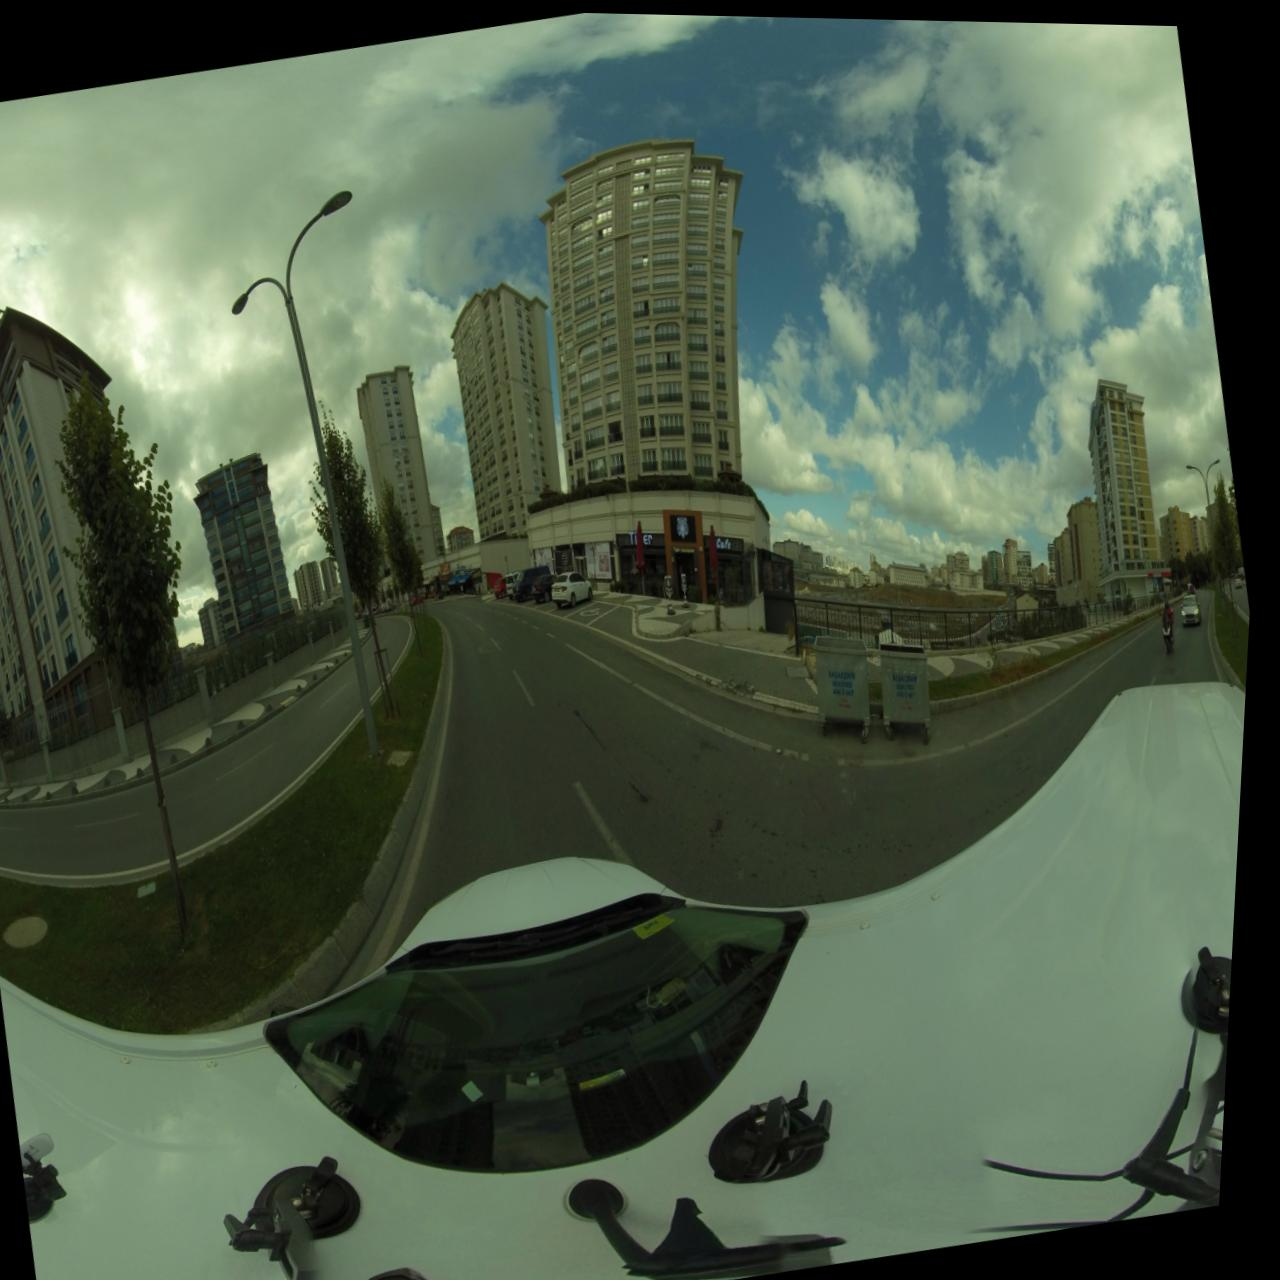SignStore: (1159, 565, 1167, 571)
